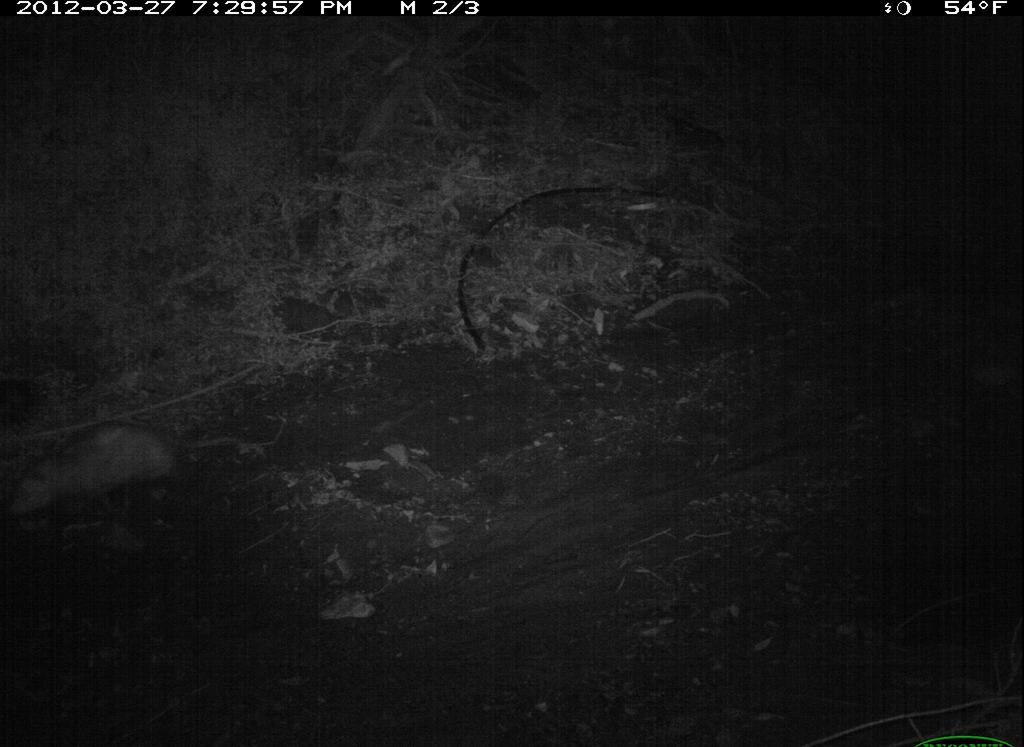opossum: (1, 409, 272, 532)
